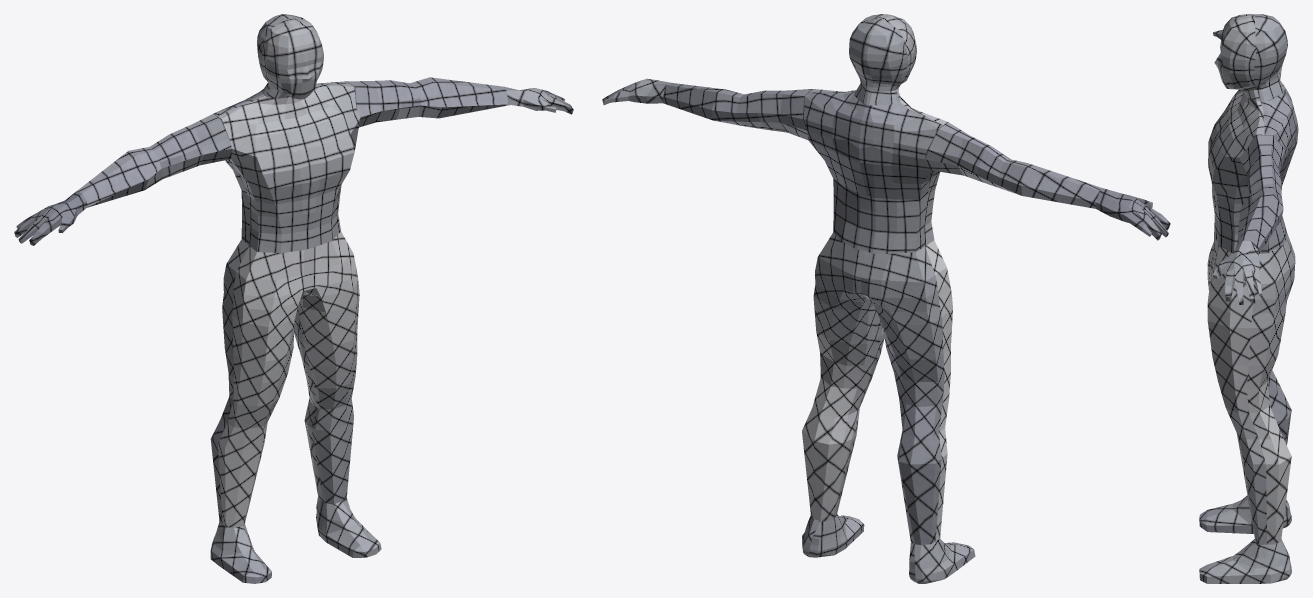
Rendered from project_bravo_character.obj.
The picture shows the model from 3 angles, left to right: view 1: azimuth 30°, elevation 25°; view 2: azimuth 150°, elevation 25°; view 3: azimuth 270°, elevation 25°; orthographic projection.
Visible parts, largest first — view 1: Character_Male_Body_Sphere; view 2: Character_Male_Body_Sphere; view 3: Character_Male_Body_Sphere.
Boxes of the visible parts, bbox=[...] form: Character_Male_Body_Sphere: bbox=[14, 14, 573, 583]; Character_Male_Body_Sphere: bbox=[602, 14, 1170, 583]; Character_Male_Body_Sphere: bbox=[1199, 14, 1298, 583].
Size of the model in its own units: 3.87 by 3.57 by 0.5983.
1 material, 1 textured.
